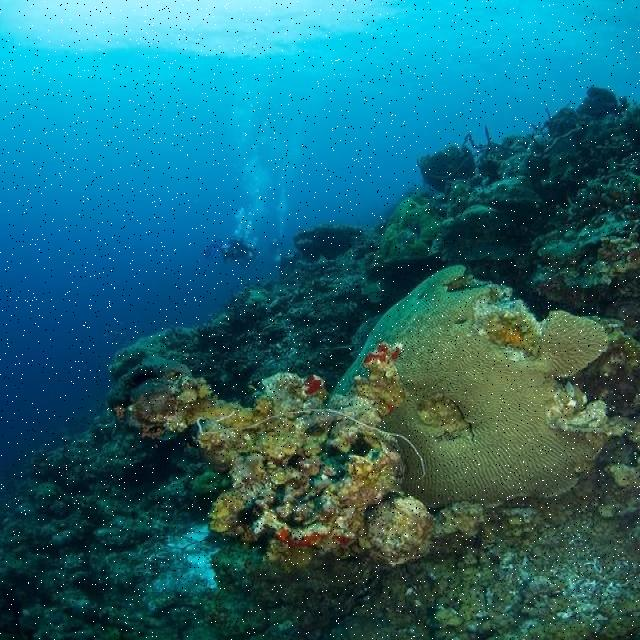fish: (206, 234, 254, 267)
reefs: (116, 343, 488, 570), (336, 263, 639, 507)
sea-floor: (0, 85, 639, 639)
